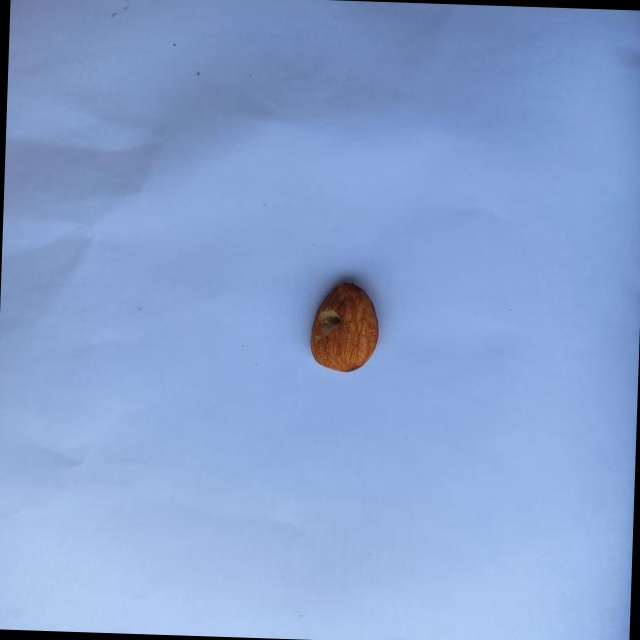grade3: (304, 276, 382, 377)
